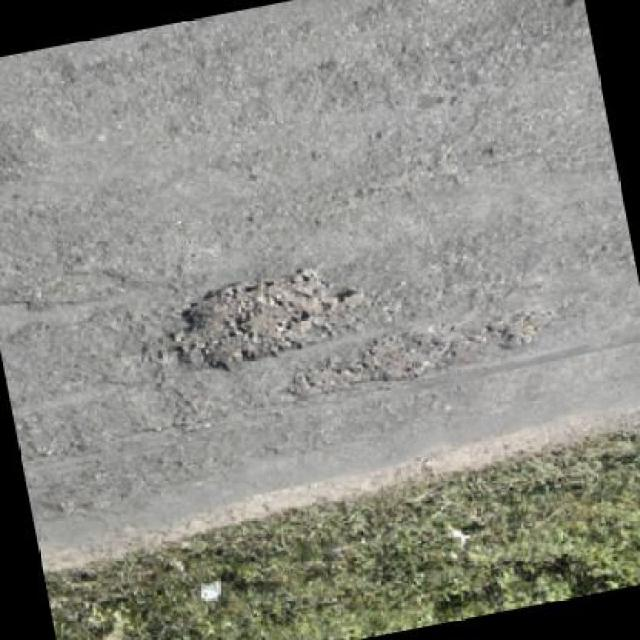pothole: (151, 258, 357, 384), (276, 319, 478, 407), (479, 300, 564, 355)
